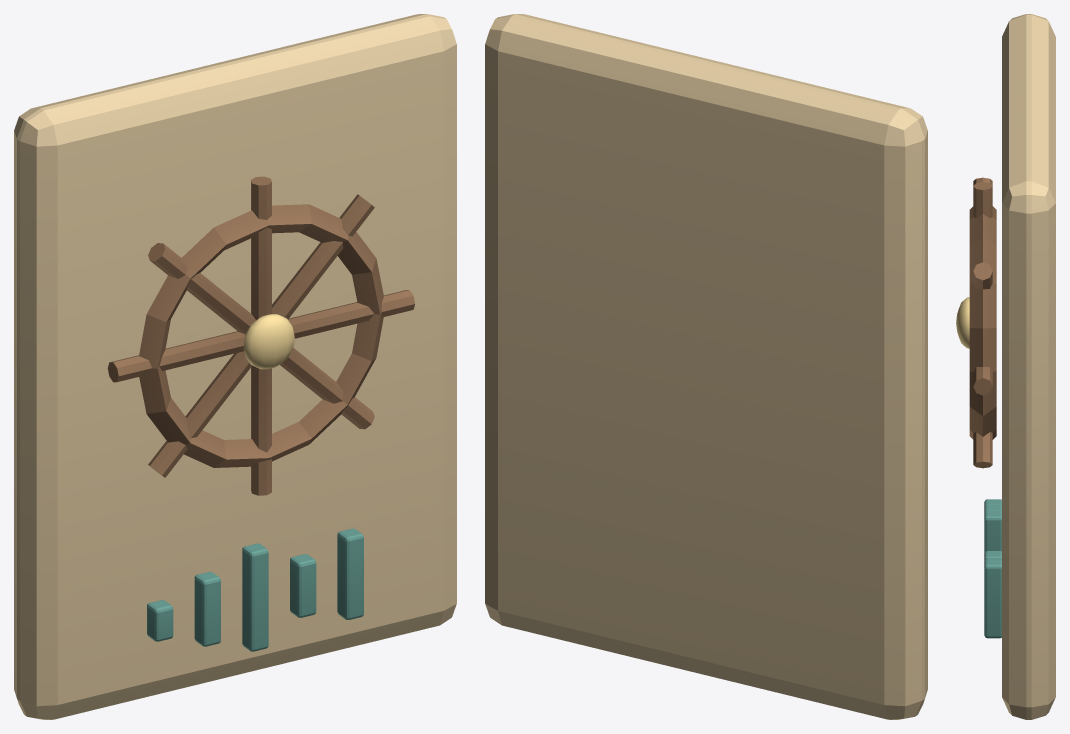
The model's file is voice_pirate.glb.
3 views of the same model, side by side, from view 1: azimuth 30°, elevation 25°; view 2: azimuth 150°, elevation 25°; view 3: azimuth 270°, elevation 25° (orthographic). The views are drawn at different scales.
Parts seen in each view (by area): view 1: card, ship_wheel, wheel_spoke.005, wheel_spoke.001, waveform.002, wheel_spoke.004, wheel_spoke.002, wheel_spoke.003, wheel_spoke, wheel_spoke.006, waveform.004, hub (+4 smaller); view 2: card; view 3: card, ship_wheel, waveform.004, waveform.002, wheel_spoke.002, wheel_spoke.007, hub, wheel_spoke, wheel_spoke.001.
Part boxes in pixels (<box>): card: <box>14,14,456,719</box>; ship_wheel: <box>139,204,383,467</box>; wheel_spoke.005: <box>148,351,252,477</box>; wheel_spoke.001: <box>272,194,374,319</box>; waveform.002: <box>242,543,268,651</box>; wheel_spoke.004: <box>107,331,244,382</box>; wheel_spoke.002: <box>251,176,271,320</box>; wheel_spoke.003: <box>148,243,255,333</box>; wheel_spoke: <box>288,290,414,338</box>; wheel_spoke.006: <box>251,365,271,495</box>; waveform.004: <box>337,528,363,619</box>; hub: <box>243,314,294,369</box>; card: <box>485,14,927,719</box>; card: <box>1002,14,1055,719</box>; ship_wheel: <box>969,206,996,439</box>; waveform.004: <box>984,559,1001,638</box>; waveform.002: <box>984,511,1001,553</box>; wheel_spoke.002: <box>973,182,992,218</box>; wheel_spoke.007: <box>973,432,992,468</box>; hub: <box>956,297,969,348</box>; wheel_spoke: <box>973,367,992,395</box>; wheel_spoke.001: <box>973,262,992,289</box>.
Size of the model in its own units: 0.82 by 1.1 by 0.185.
